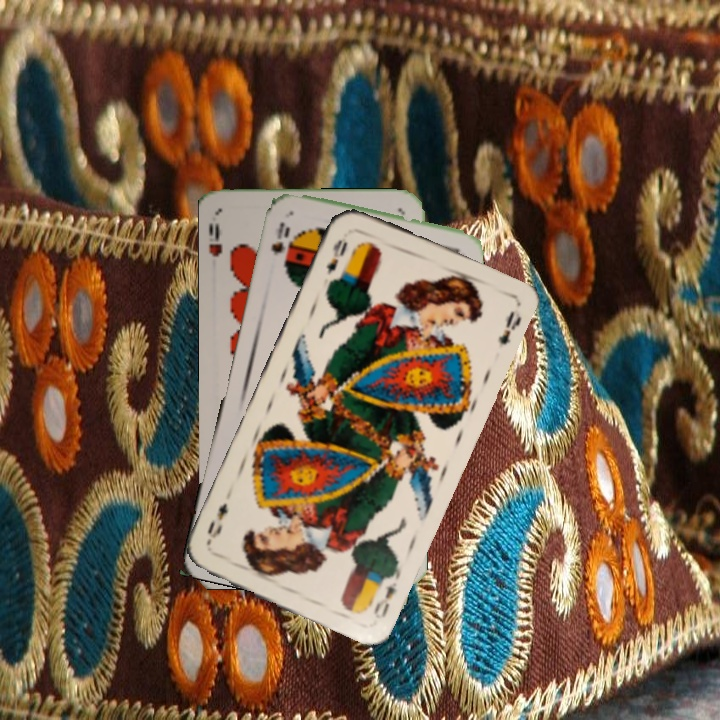EO: (365, 567, 403, 622), (321, 235, 350, 278)
H9: (205, 219, 224, 259)
SO: (267, 218, 293, 257)
